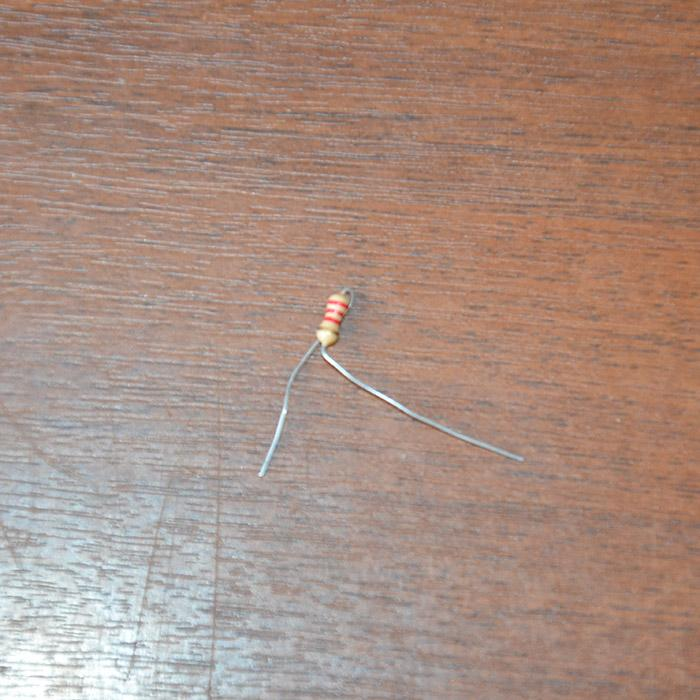resistor: (317, 291, 351, 345)
